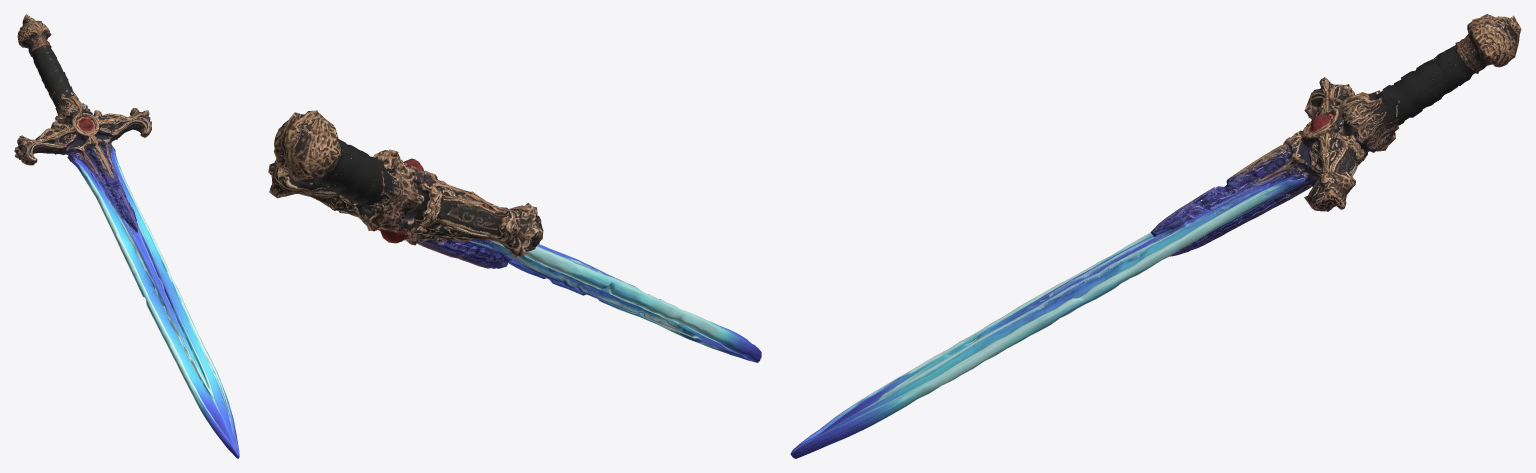
The model's file is yeminkilic.glb.
3 views of the same model, side by side, from view 1: azimuth 30°, elevation 25°; view 2: azimuth 150°, elevation 25°; view 3: azimuth 270°, elevation 25° (orthographic). The views are drawn at different scales.
Visible parts, largest first — view 1: tripo_node_c8c4bc5c-3ac3-4352-913c-8d56b6ae4748; view 2: tripo_node_c8c4bc5c-3ac3-4352-913c-8d56b6ae4748; view 3: tripo_node_c8c4bc5c-3ac3-4352-913c-8d56b6ae4748.
Part boxes in pixels (x1=…): tripo_node_c8c4bc5c-3ac3-4352-913c-8d56b6ae4748: x1=14, y1=14, x2=239, y2=458; tripo_node_c8c4bc5c-3ac3-4352-913c-8d56b6ae4748: x1=268, y1=110, x2=761, y2=362; tripo_node_c8c4bc5c-3ac3-4352-913c-8d56b6ae4748: x1=790, y1=14, x2=1521, y2=458.
Bounding box in the file's own units: 0.3383 × 0.6695 × 0.9817.
1 material, 1 textured.
